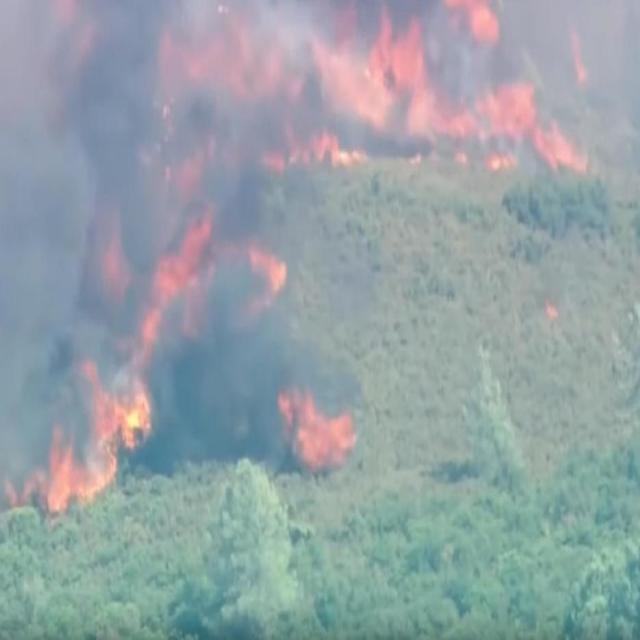Fire: (4, 216, 212, 501), (168, 36, 581, 173), (273, 375, 355, 475), (243, 241, 288, 303)
